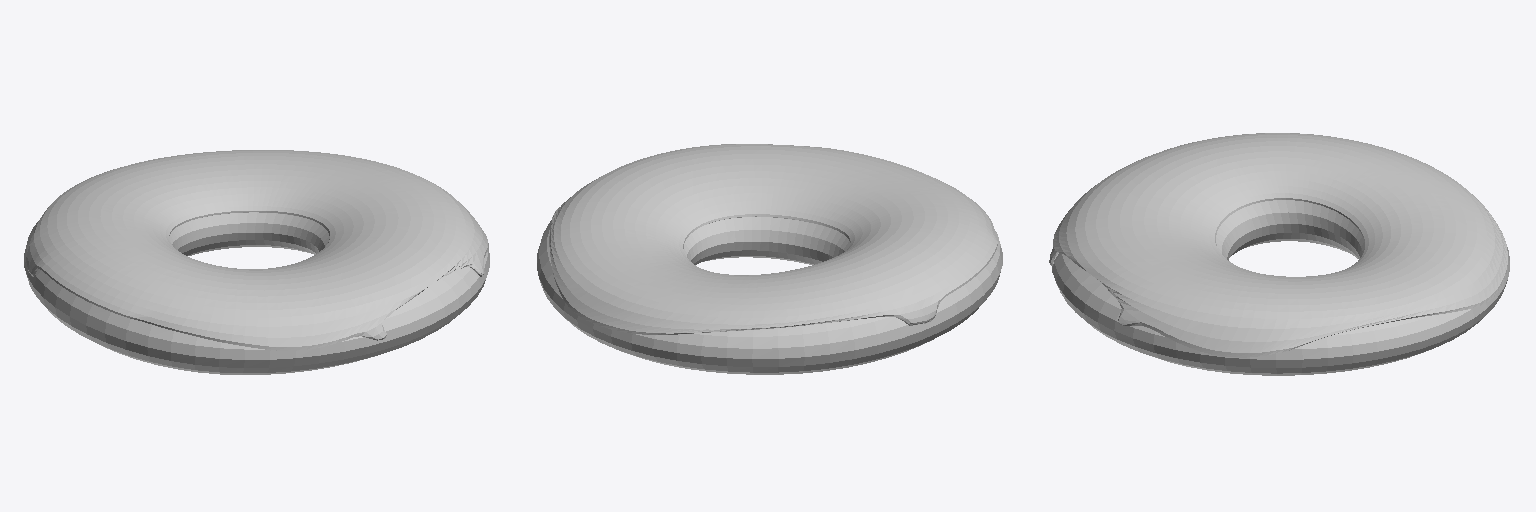
3 renders of one model, left to right at view 1: azimuth 30°, elevation 25°; view 2: azimuth 150°, elevation 25°; view 3: azimuth 270°, elevation 25°, orthographic.
Visible parts, largest first — view 1: Icing_Torus.002, Donut_Torus.001; view 2: Icing_Torus.002, Donut_Torus.001; view 3: Icing_Torus.002, Donut_Torus.001.
Part boxes in pixels (x1,y1,x2,y2): Icing_Torus.002: (26,150,488,350); Donut_Torus.001: (24,212,489,374); Icing_Torus.002: (549,144,997,334); Donut_Torus.001: (537,217,1002,374); Icing_Torus.002: (1049,133,1507,357); Donut_Torus.001: (1052,200,1509,375).
Size of the model in its own units: 1.3 by 0.2698 by 1.28.